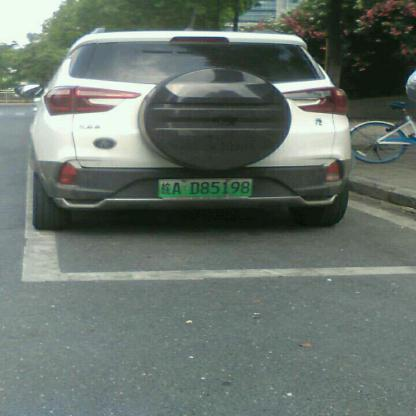lp: (158, 178, 252, 197)
